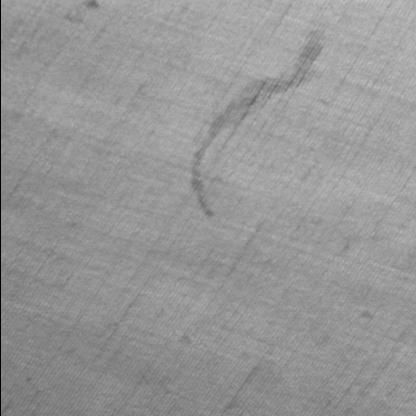oil spot: (185, 25, 331, 219)
